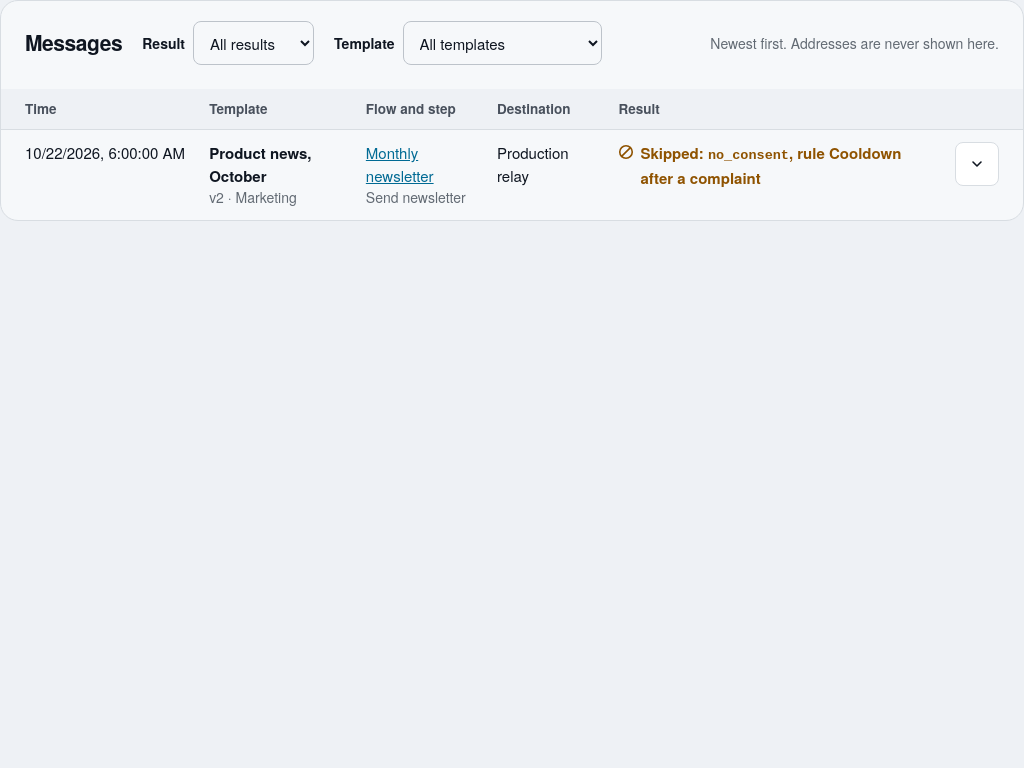
Test: the message log of a person › expands a row to the checks in order, stops at the consent check and links the trace
Click the button named "Show the checks for Product news, October": (977, 164) [955, 142, 999, 186]
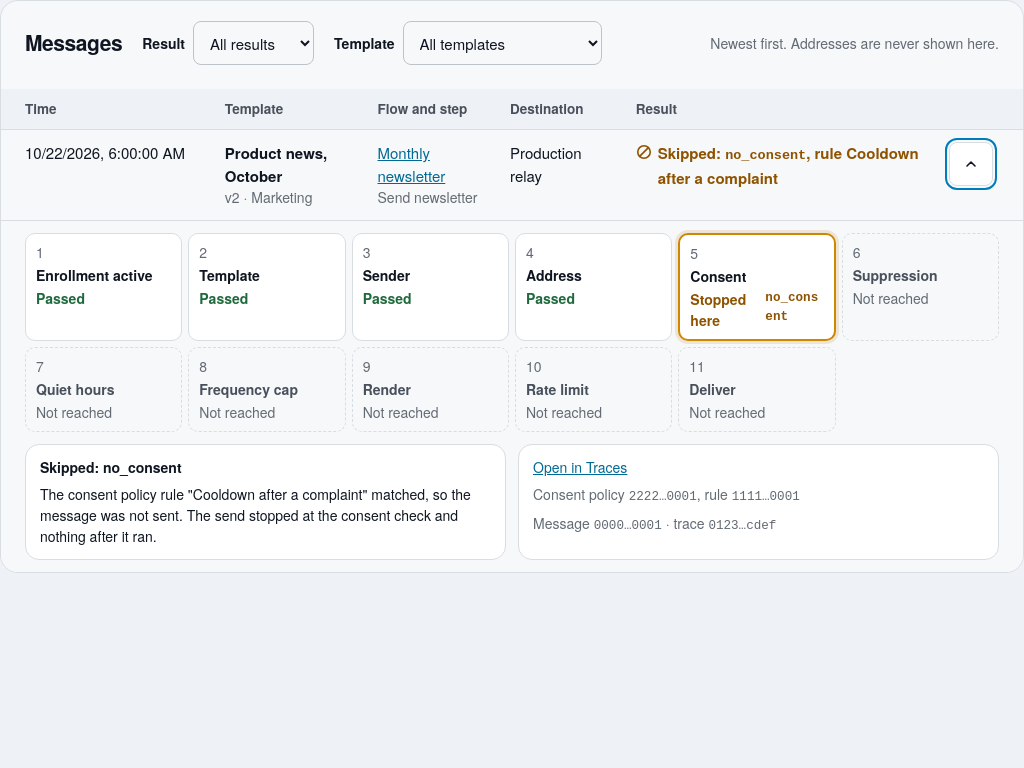
Expected: the button named "Hide the checks for Product news, October" is expanded
Expected: the list item "1 Enrollment active Passed" is shown, [25, 233, 182, 341]
Expected: the list item "5 Consent Stopped here no_consent" is shown, [678, 233, 836, 341]
Click the button named "Hide the checks for Product news, October": (970, 164) [948, 142, 992, 186]
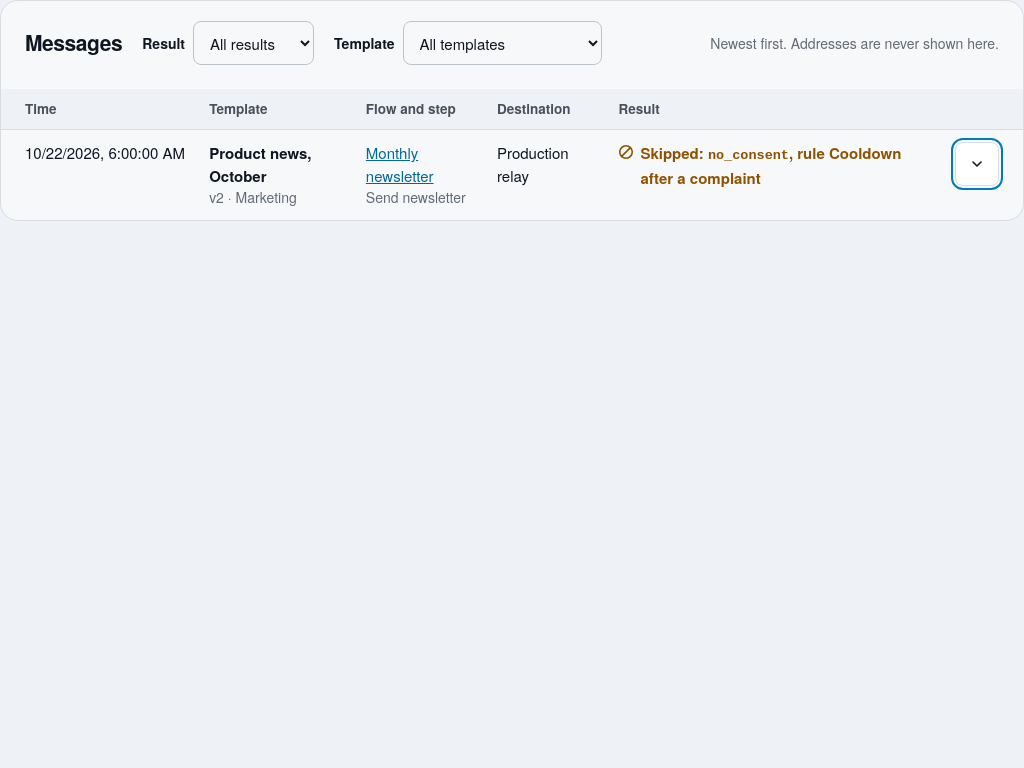
Expected: the button named "Show the checks for Product news, October" is collapsed, [955, 142, 999, 186]
